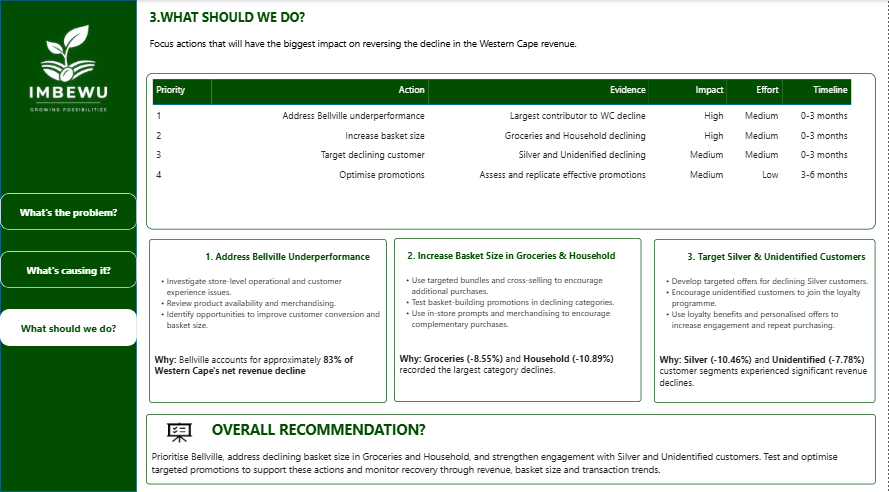

The dashboard page shown, as its layout file describes it:
{"tool":"powerbi","page":{"name":"What should we do?","canvas":[1300,720],"ordinal":2},"visuals":[{"type":"shape","box":[0,0,200.5,720],"z":0},{"type":"image","box":[0,0,200.5,200.5],"z":1000},{"type":"shape","box":[0,282.4,200.5,54.1],"z":2000},{"type":"shape","box":[0,367.3,200.5,54.1],"z":3000},{"type":"shape","box":[0,452.2,200.5,54.1],"z":4000},{"type":"textbox","box":[213.1,7.9,1066.9,78.9],"z":5000},{"type":"tableEx","title":"Revenue YoY % by Province ","fields":{"Values":["Prioritised Actions.Priority","Prioritised Actions.Action","Prioritised Actions.Evidence","Prioritised Actions.Impact","Prioritised Actions.Effort","Prioritised Actions.Timeline"]},"box":[213.2,107.4,1067.6,229.2],"z":6000},{"type":"textbox","box":[213.2,605.9,1067.6,102.6],"z":7000},{"type":"image","box":[213.1,610.8,97.9,47.3],"z":8000},{"type":"textbox","box":[218,349.4,347.8,240.4],"z":9000},{"type":"textbox","box":[577.1,347.8,362.3,240.4],"z":10000},{"type":"textbox","box":[957,349.4,323.8,240.4],"z":11000}]}

Visuals, with their boxes in screenshot pixels (x1, y1, x2, y2), scaled from the page's 1300x720 canvas onto the 889x492 screenshot:
shape: 0:0:137:491
image: 0:0:137:137
shape: 0:193:137:230
shape: 0:251:137:288
shape: 0:309:137:346
textbox: 146:5:875:59
"Revenue YoY % by Province " tableEx: 146:73:876:230
textbox: 146:414:876:484
image: 146:417:213:450
textbox: 149:239:387:403
textbox: 395:238:642:402
textbox: 654:239:876:403
